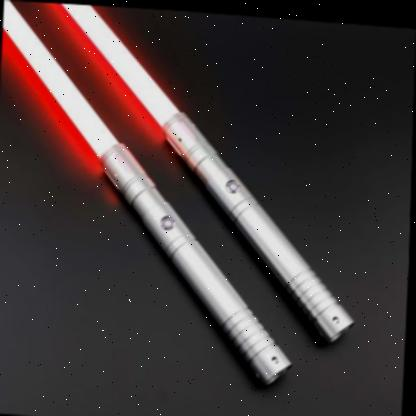sith_lightsaber: (2, 0, 309, 402), (45, 3, 363, 355)
